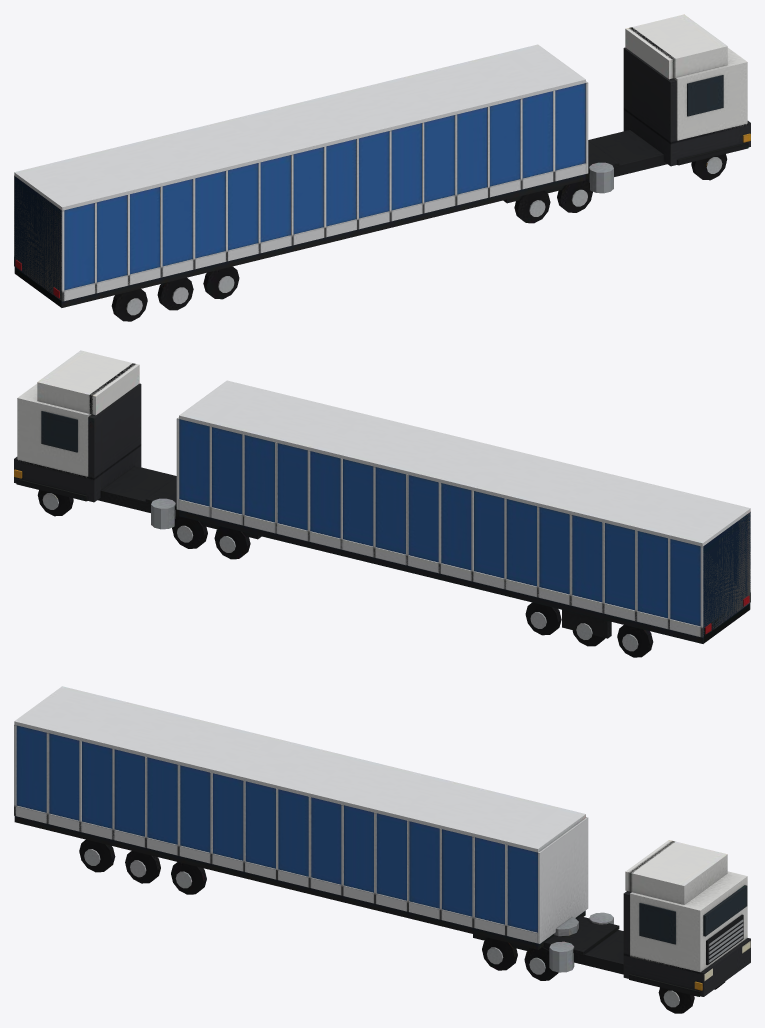
Rendered from tir_a.glb.
3 views of the same model, one above another, from view 1: azimuth 30°, elevation 25°; view 2: azimuth 150°, elevation 25°; view 3: azimuth 330°, elevation 25° (orthographic).
Parts seen in each view (by area): view 1: tir_a; view 2: tir_a; view 3: tir_a.
Boxes of the visible parts, x1,y1,x2,y2 form: tir_a: [14, 14, 750, 321]; tir_a: [14, 350, 750, 657]; tir_a: [14, 686, 750, 1013].
Size of the model in its own units: 21.09 by 4 by 2.73.
Materials: 1 (1 with a texture image).
